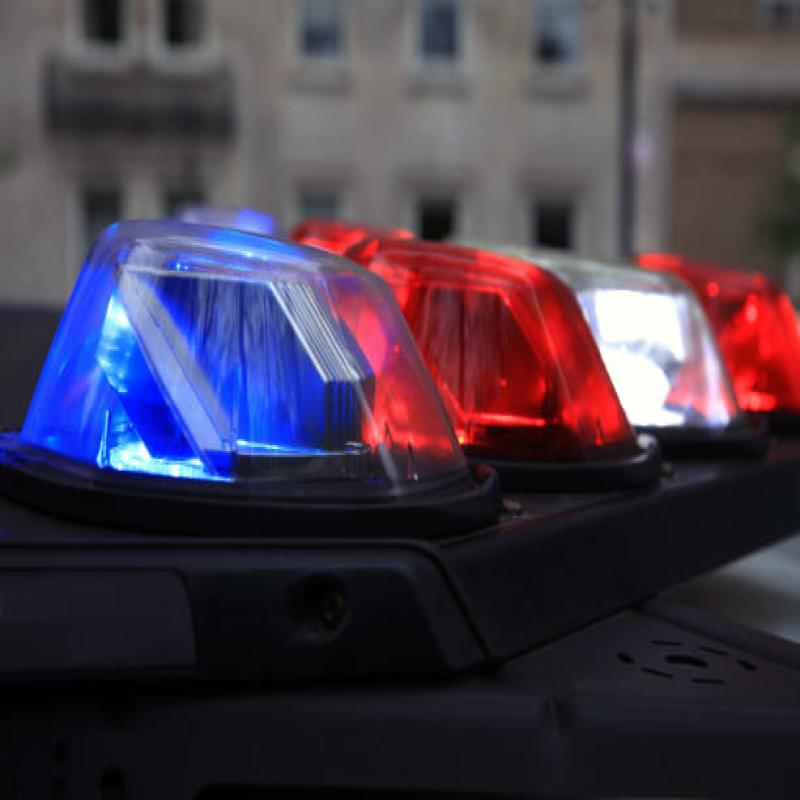AmbulanceSiren: (64, 159, 784, 514)
